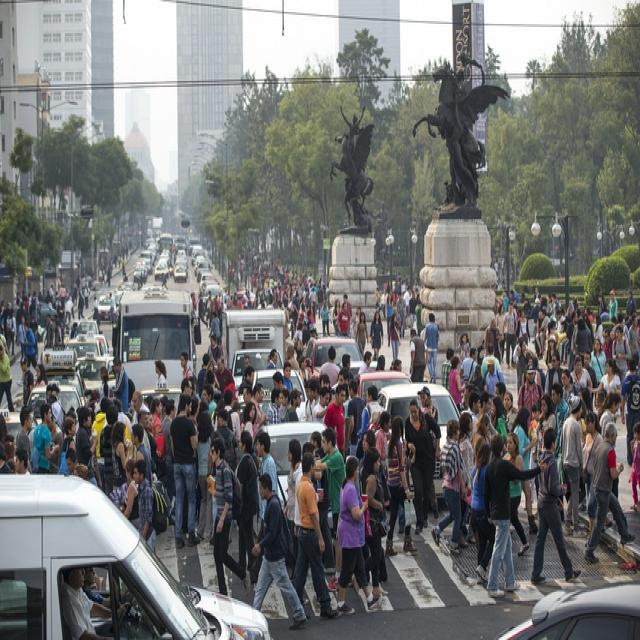body: (481, 429, 548, 598), (250, 470, 308, 632), (529, 424, 583, 585), (579, 418, 637, 567), (290, 451, 339, 621), (333, 453, 382, 616), (208, 438, 251, 598), (0, 282, 76, 361), (290, 439, 325, 607), (224, 225, 325, 280), (530, 285, 606, 358), (58, 565, 131, 640), (404, 397, 443, 537), (169, 391, 202, 550), (384, 415, 419, 558), (430, 418, 466, 556), (359, 446, 390, 596), (559, 391, 590, 540), (308, 429, 336, 577), (469, 441, 498, 583), (308, 430, 336, 576), (233, 430, 260, 580), (502, 430, 532, 559), (510, 405, 539, 535), (131, 457, 169, 553), (580, 409, 606, 549), (374, 268, 423, 338), (280, 438, 303, 583), (417, 385, 441, 520), (345, 378, 367, 505), (193, 409, 214, 541), (188, 283, 225, 354), (255, 430, 279, 537), (83, 382, 128, 439), (456, 411, 476, 538), (143, 391, 168, 489), (283, 280, 320, 344), (619, 355, 639, 468), (32, 400, 62, 475), (41, 382, 66, 469), (98, 402, 121, 496), (109, 418, 131, 514), (322, 382, 348, 463), (160, 397, 178, 504), (224, 280, 283, 312), (516, 361, 545, 424), (549, 379, 571, 459), (213, 408, 240, 473), (356, 384, 386, 442), (14, 403, 37, 475), (64, 447, 100, 493), (75, 404, 100, 468), (355, 427, 378, 496), (81, 562, 112, 612), (130, 422, 153, 488), (215, 388, 241, 445), (373, 409, 393, 483), (534, 394, 556, 460), (586, 358, 623, 397), (372, 409, 392, 481), (57, 414, 79, 478), (0, 332, 16, 417), (119, 457, 142, 516), (108, 354, 130, 415), (620, 312, 639, 382), (458, 344, 480, 404), (241, 385, 263, 444), (598, 391, 623, 441), (422, 312, 439, 385), (471, 411, 493, 466), (448, 355, 468, 415), (409, 328, 430, 384), (581, 348, 599, 413), (249, 381, 268, 442), (611, 323, 632, 378), (627, 420, 639, 516), (271, 368, 292, 422), (568, 354, 594, 397), (318, 344, 342, 390), (483, 357, 507, 403), (502, 301, 518, 370), (0, 408, 16, 477), (543, 351, 566, 398), (587, 337, 608, 388), (588, 337, 609, 387), (136, 408, 153, 469), (499, 286, 531, 318), (490, 394, 509, 444), (18, 353, 35, 408), (386, 312, 403, 366), (179, 349, 198, 397), (480, 342, 503, 381), (576, 384, 609, 411), (316, 364, 353, 388), (239, 400, 259, 444), (368, 307, 384, 361), (213, 354, 236, 391), (311, 385, 331, 426), (265, 386, 285, 426), (559, 367, 580, 405), (282, 387, 304, 422), (354, 310, 370, 358), (495, 302, 507, 366), (301, 337, 318, 382), (529, 398, 543, 452), (439, 346, 455, 393), (132, 390, 152, 426), (197, 352, 212, 400), (484, 318, 502, 358), (515, 307, 532, 349), (335, 351, 356, 384), (177, 376, 203, 402), (200, 382, 218, 418), (467, 389, 482, 432), (237, 364, 256, 397), (545, 332, 562, 368), (376, 354, 403, 376), (277, 387, 293, 424), (303, 379, 316, 424), (203, 358, 221, 390), (336, 300, 352, 336), (13, 444, 31, 475), (91, 292, 104, 334), (153, 358, 170, 390), (468, 362, 486, 392), (318, 298, 331, 339), (454, 331, 472, 360), (331, 297, 343, 337), (357, 349, 374, 376), (281, 360, 295, 392), (284, 343, 300, 370), (608, 288, 619, 327), (31, 363, 48, 388), (353, 304, 363, 345), (502, 389, 518, 414), (625, 289, 638, 318), (264, 346, 280, 369), (460, 380, 473, 408), (318, 279, 333, 303), (341, 292, 353, 318), (231, 397, 244, 421), (106, 291, 115, 324), (76, 289, 85, 321), (493, 379, 506, 400), (104, 259, 113, 288), (135, 268, 146, 291), (97, 362, 109, 383), (240, 354, 251, 376), (476, 343, 486, 366), (83, 282, 91, 309), (314, 379, 322, 405), (74, 273, 82, 297), (161, 272, 170, 292)
